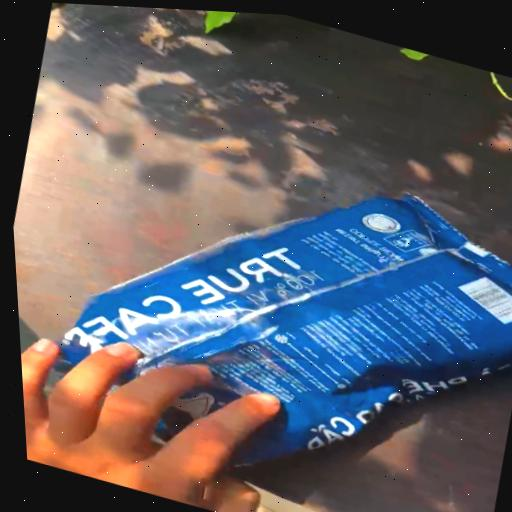cafe_hat: (57, 194, 512, 465)
